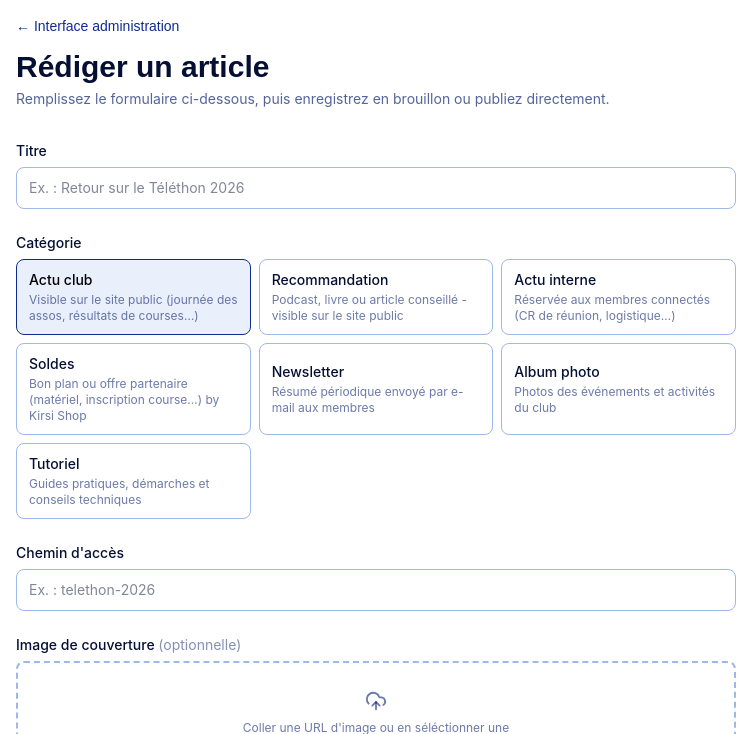
RedactionArticle : article › refuse un chemin d'accès invalide
This screenshot has width=753, height=734.
Step 1. Type "Retour sur le Téléthon" into the field labelled "Titre" → (376, 188), box [16,167,736,209]
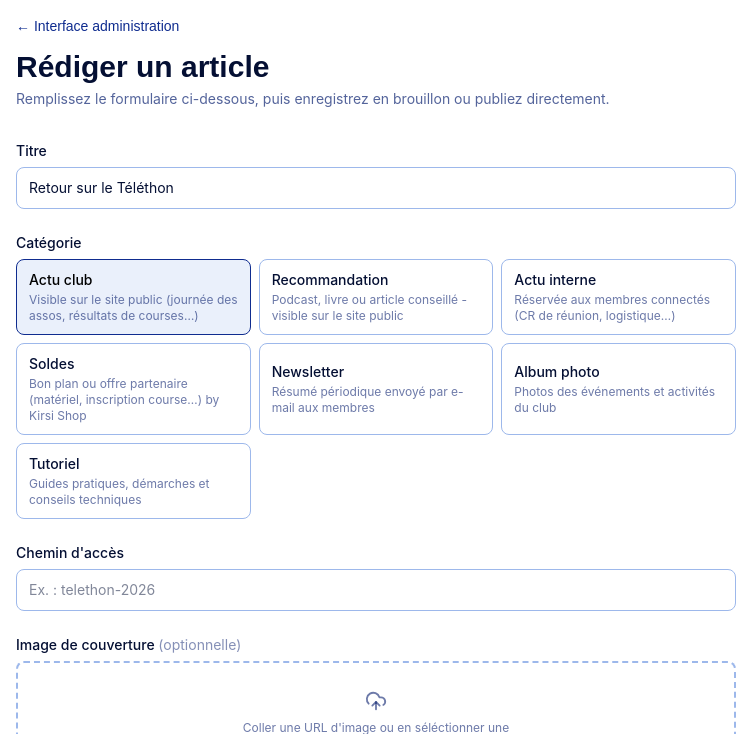
Step 2. Type "Mon-Article" into the field labelled "Chemin d'accès" → (376, 590), box [16,569,736,611]
(page scrolled)
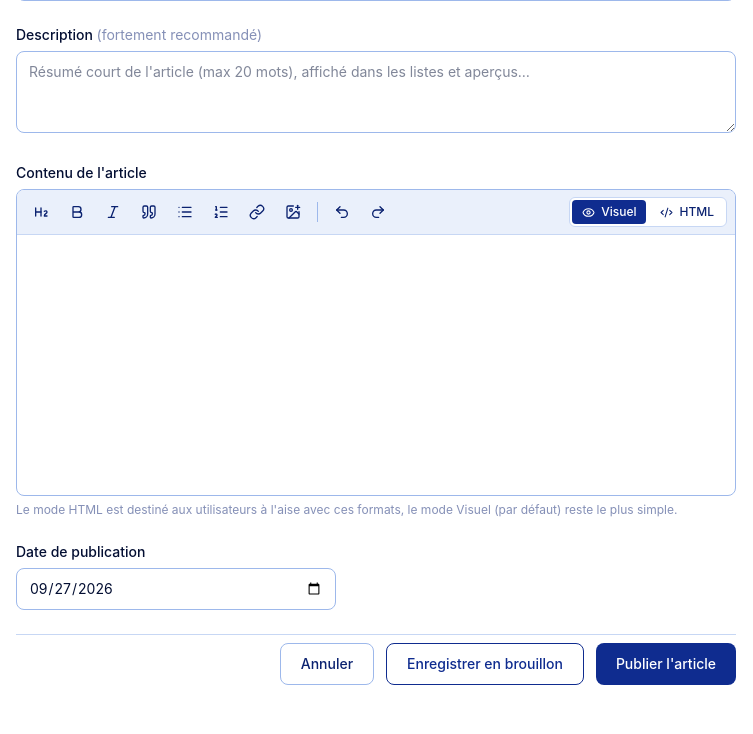
Step 3. Click the button "Publier l'article" → (666, 664), box [596,643,736,685]
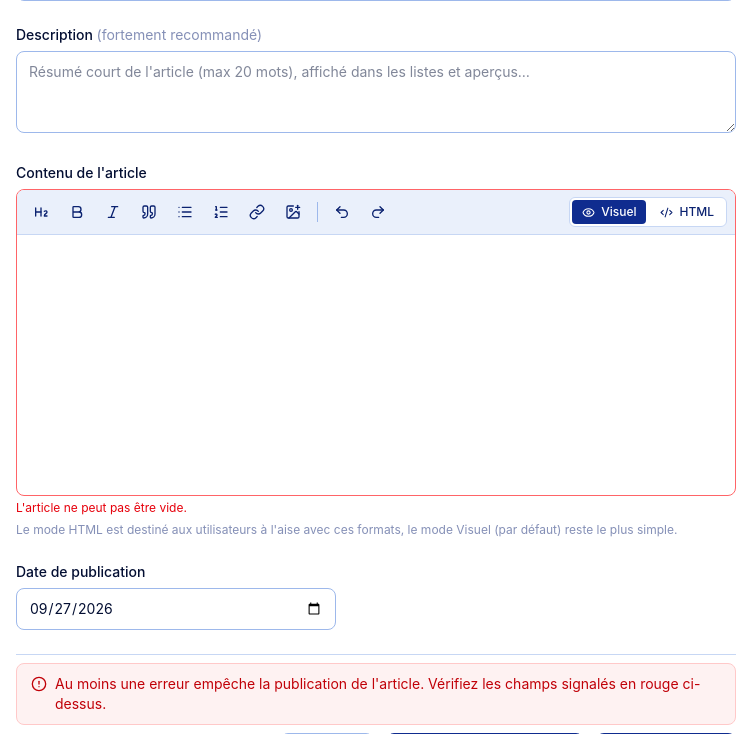
Now the message is shown, box [16,663,736,725]
